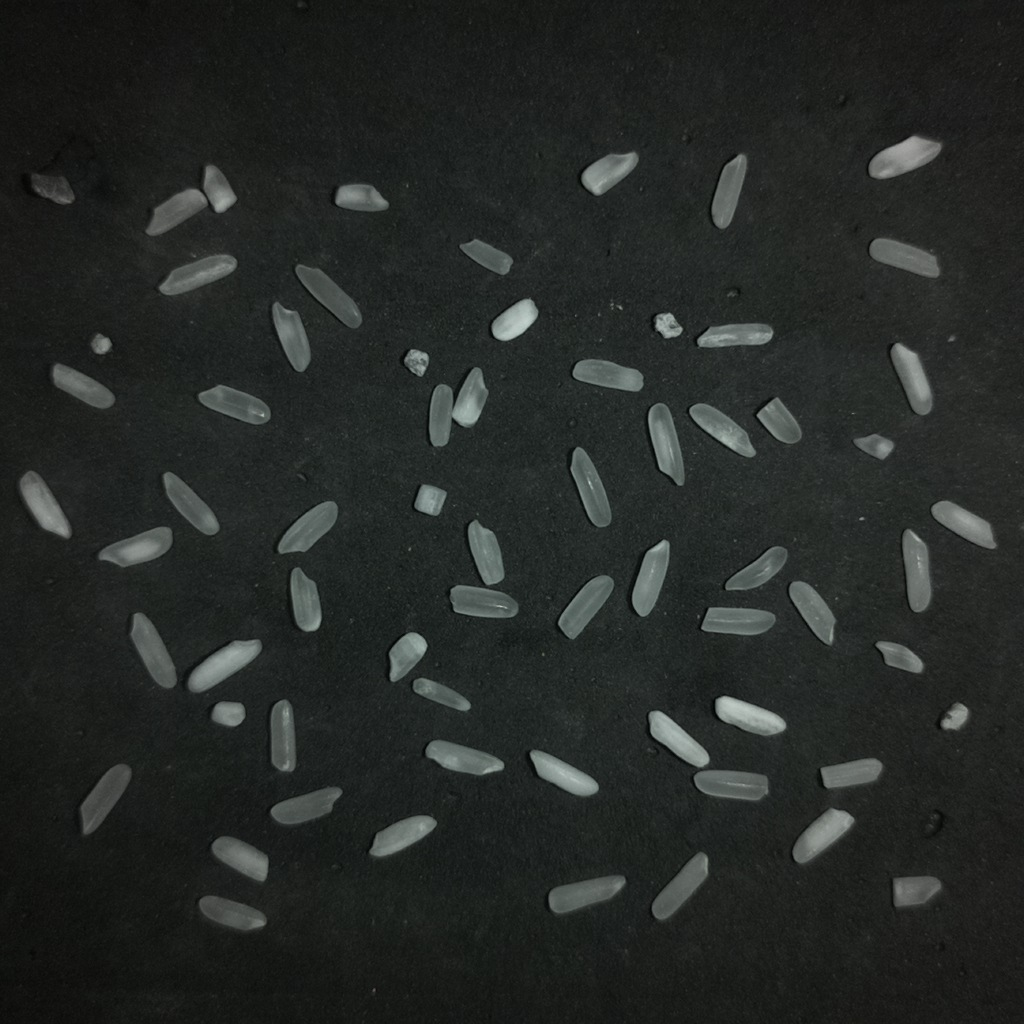broken: (130, 612, 177, 688), (570, 447, 610, 527), (547, 875, 625, 914), (631, 540, 670, 617), (97, 527, 172, 566), (146, 188, 207, 235), (51, 363, 114, 408), (211, 836, 268, 882), (467, 520, 504, 585), (572, 359, 643, 391), (756, 398, 801, 443), (290, 568, 321, 632), (412, 677, 470, 711), (819, 758, 882, 788), (697, 324, 772, 347), (892, 876, 942, 908), (334, 183, 389, 212), (875, 641, 923, 673), (853, 434, 894, 459), (414, 484, 446, 515)
chalky: (187, 639, 261, 692), (19, 471, 71, 538), (648, 711, 709, 767), (792, 808, 852, 863), (529, 749, 598, 796), (868, 135, 941, 179), (931, 500, 996, 549), (890, 343, 932, 414), (369, 815, 436, 857), (714, 696, 785, 735), (580, 152, 638, 195), (451, 367, 488, 427), (492, 298, 538, 340), (389, 633, 426, 681), (202, 164, 236, 213)
foreign: (29, 173, 73, 203), (210, 701, 245, 727), (939, 702, 969, 730), (653, 313, 682, 338), (403, 350, 429, 376), (90, 333, 111, 353)
whole: (295, 264, 361, 328), (651, 852, 708, 920), (79, 764, 131, 835), (162, 472, 219, 535), (689, 403, 755, 457), (558, 576, 613, 639), (277, 500, 337, 553), (158, 255, 236, 295), (788, 581, 834, 645), (197, 385, 270, 424), (649, 403, 684, 484), (711, 154, 748, 230), (270, 787, 342, 826), (869, 238, 939, 277), (425, 740, 503, 775), (724, 547, 787, 590), (272, 301, 310, 371), (198, 895, 265, 931), (902, 529, 931, 611), (693, 770, 767, 801), (450, 585, 518, 618), (701, 607, 775, 635), (269, 700, 296, 771), (459, 239, 512, 274), (428, 384, 452, 446)
